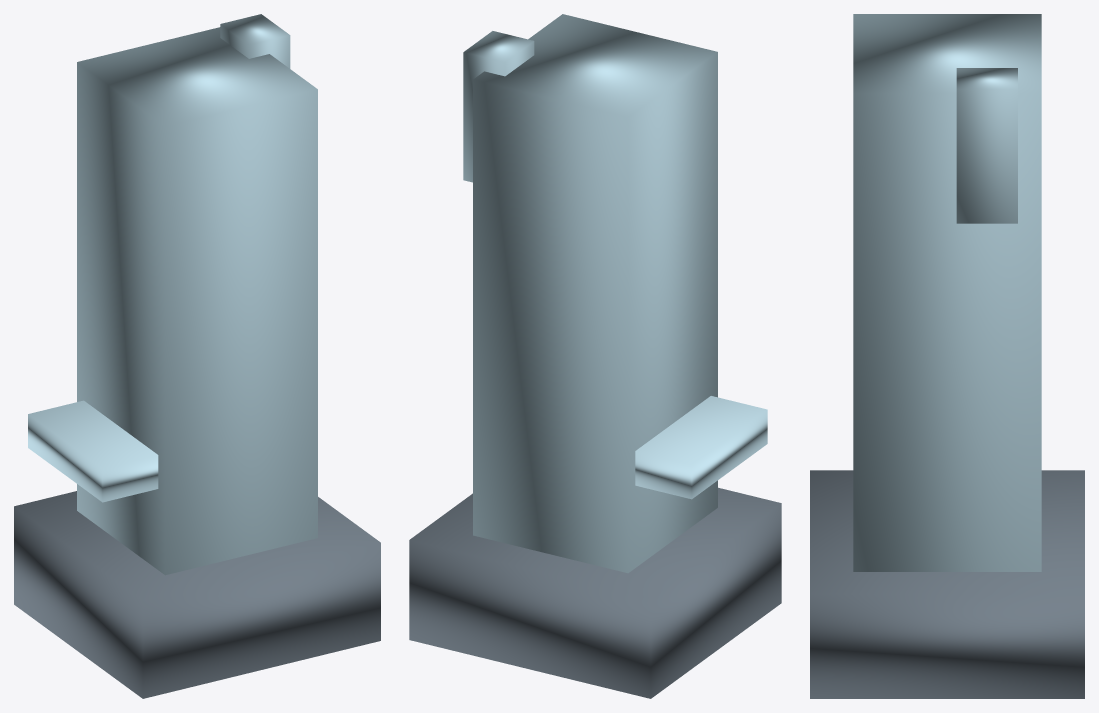
The model's file is ice-mine-ice-pillar-lod1.glb.
The picture shows the model from 3 angles, left to right: view 1: azimuth 30°, elevation 25°; view 2: azimuth 150°, elevation 25°; view 3: azimuth 270°, elevation 25°; orthographic projection. The views are drawn at different scales.
Parts seen in each view (by area): view 1: ice-mine-ice-pillar-core, ice-mine-ice-pillar-rock-base, ice-mine-ice-pillar-shelf, ice-mine-ice-pillar-shard; view 2: ice-mine-ice-pillar-core, ice-mine-ice-pillar-rock-base, ice-mine-ice-pillar-shelf, ice-mine-ice-pillar-shard; view 3: ice-mine-ice-pillar-core, ice-mine-ice-pillar-rock-base, ice-mine-ice-pillar-shard.
Boxes of the visible parts, x1=… form: ice-mine-ice-pillar-core: x1=77, y1=27, x2=317, y2=575; ice-mine-ice-pillar-rock-base: x1=14, y1=491, x2=380, y2=698; ice-mine-ice-pillar-shelf: x1=28, y1=400, x2=158, y2=502; ice-mine-ice-pillar-shard: x1=220, y1=14, x2=290, y2=68; ice-mine-ice-pillar-core: x1=473, y1=14, x2=717, y2=573; ice-mine-ice-pillar-rock-base: x1=409, y1=487, x2=781, y2=698; ice-mine-ice-pillar-shelf: x1=635, y1=396, x2=767, y2=499; ice-mine-ice-pillar-shard: x1=463, y1=31, x2=534, y2=182; ice-mine-ice-pillar-core: x1=853, y1=14, x2=1041, y2=571; ice-mine-ice-pillar-rock-base: x1=810, y1=470, x2=1084, y2=698; ice-mine-ice-pillar-shard: x1=956, y1=68, x2=1017, y2=223.
Bounding box in the file's own units: 1.71 × 3.65 × 1.52.
